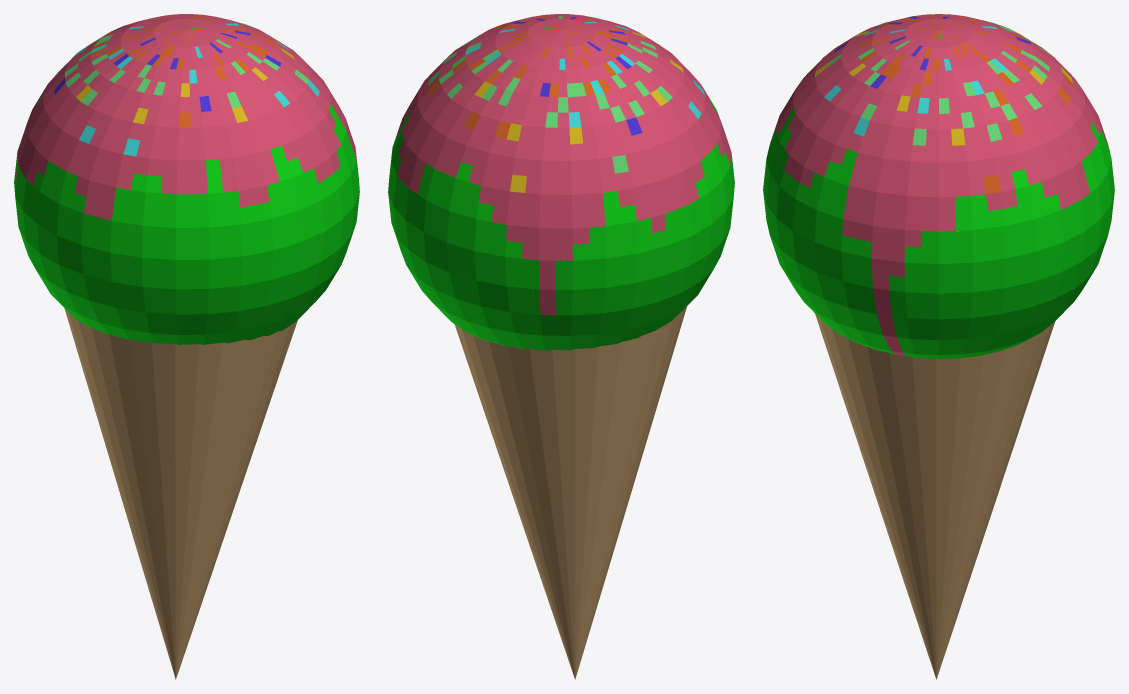
File: ICEREAM.fbx
3 views of the same model, side by side, from view 1: azimuth 30°, elevation 25°; view 2: azimuth 150°, elevation 25°; view 3: azimuth 270°, elevation 25° (orthographic).
Parts seen in each view (by area): view 1: Sphere, Cone; view 2: Sphere, Cone; view 3: Sphere, Cone.
Boxes of the visible parts, x1=… form: Sphere: x1=14, y1=14, x2=359, y2=344; Cone: x1=64, y1=308, x2=297, y2=679; Sphere: x1=388, y1=14, x2=734, y2=350; Cone: x1=454, y1=306, x2=686, y2=679; Sphere: x1=763, y1=14, x2=1114, y2=359; Cone: x1=815, y1=314, x2=1055, y2=679.
Size of the model in its own units: 259 by 533 by 259.
